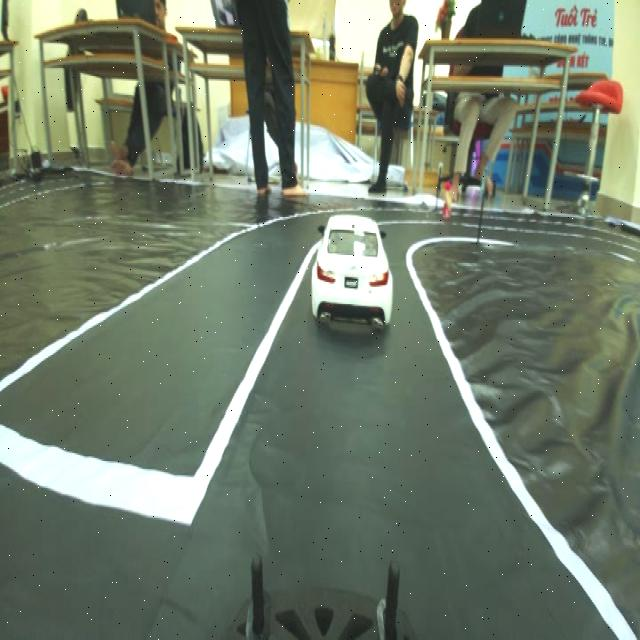car: (309, 196, 393, 332)
